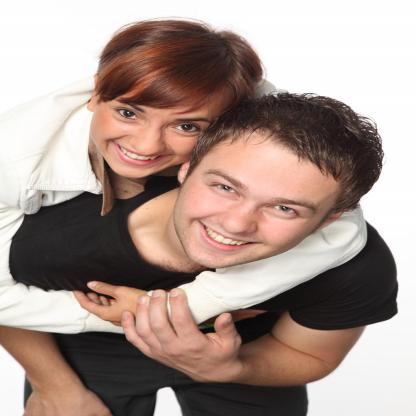face: (172, 137, 344, 272), (91, 79, 228, 179)
